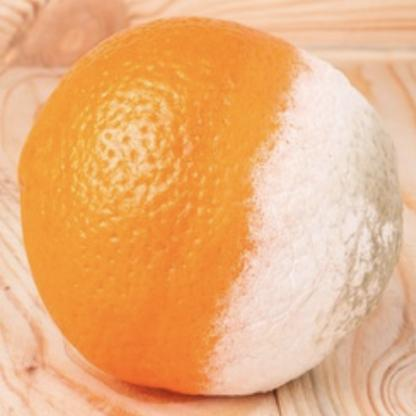rotten: (20, 17, 402, 399)
